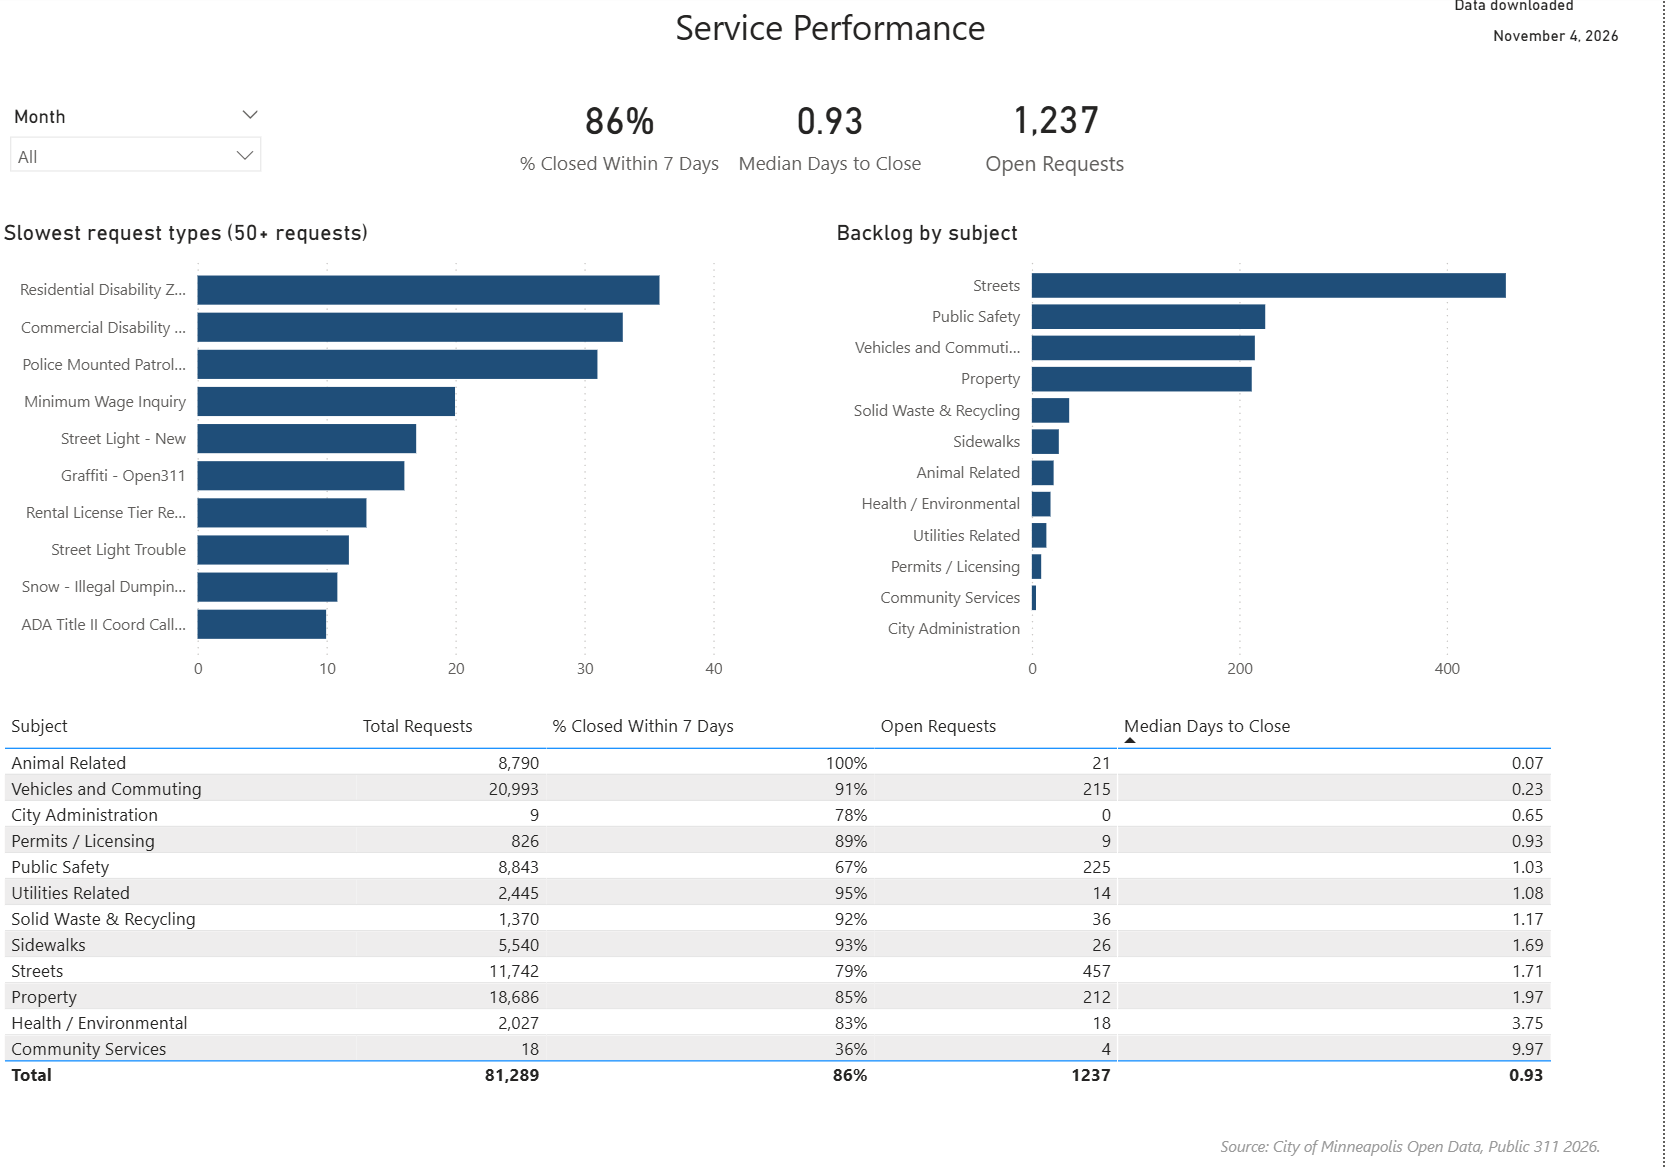

The dashboard page shown, as its layout file describes it:
{"tool":"powerbi","page":{"name":"Service Performance","canvas":[1280,900],"ordinal":1},"visuals":[{"type":"card","fields":{"Values":["Requests.% Closed Within 7 Days"]},"box":[393.9,46.1,168.2,115.2],"z":0},{"type":"card","fields":{"Values":["Requests.Median Days to Close"]},"box":[562.1,46.1,155.1,115.2],"z":1000},{"type":"textbox","box":[0,0,1280,63.5],"z":3000},{"type":"card","title":"Data downloaded","fields":{"Values":["Requests.data_as_of"]},"box":[1114.1,0,165.9,51.4],"z":4000},{"type":"card","fields":{"Values":["Requests.Open Requests"]},"box":[717.2,46.1,190.4,115.2],"z":5000},{"type":"textbox","box":[934.6,868.5,345.6,31.5],"z":7000},{"type":"barChart","title":"Slowest request types (50+ requests)","fields":{"Category":["Requests.Request Type"],"Y":["Requests.Median Days to Close"]},"box":[0,171.2,562.1,363.2],"z":8000},{"type":"slicer","fields":{"Values":["DateTable.Month Start"]},"box":[0,79.6,213.3,75.3],"z":10000},{"type":"barChart","title":"Backlog by subject","fields":{"Category":["Requests.Subject"],"Y":["Requests.Open Requests"]},"box":[639.7,171.2,568.3,363.2],"z":13001},{"type":"tableEx","fields":{"Values":["Requests.Subject","Requests.Total Requests","Requests.% Closed Within 7 Days","Requests.Open Requests","Requests.Median Days to Close"]},"box":[0,545.2,1207.9,317.9],"z":13002}]}

Visuals, with their boxes in screenshot pixels (x1, y1, x2, y2), scaled from the page's 1280x900 canvas onto the 1665x1167 screenshot:
card - Requests.% Closed Within 7 Days: detection(512, 60, 731, 209)
card - Requests.Median Days to Close: detection(731, 60, 933, 209)
textbox: detection(0, 0, 1664, 82)
"Data downloaded" card: detection(1449, 0, 1664, 67)
card - Requests.Open Requests: detection(933, 60, 1181, 209)
textbox: detection(1216, 1126, 1664, 1166)
"Slowest request types (50+ requests)" barChart: detection(0, 222, 731, 693)
slicer - DateTable.Month Start: detection(0, 103, 277, 201)
"Backlog by subject" barChart: detection(832, 222, 1571, 693)
tableEx - Requests.Subject x Requests.Total Requests: detection(0, 707, 1571, 1119)
